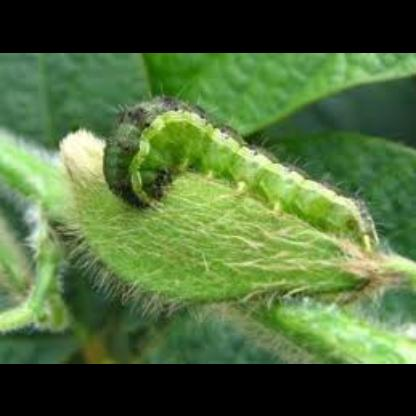oruga: (94, 110, 394, 260)
